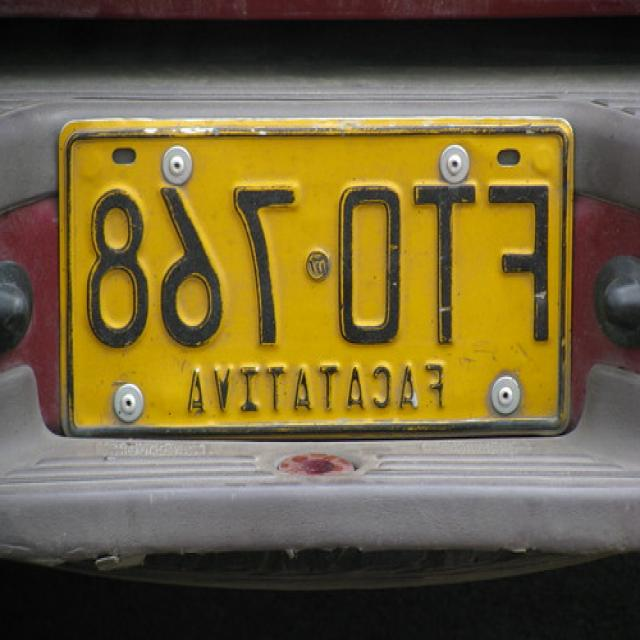placas: (71, 130, 566, 358)
